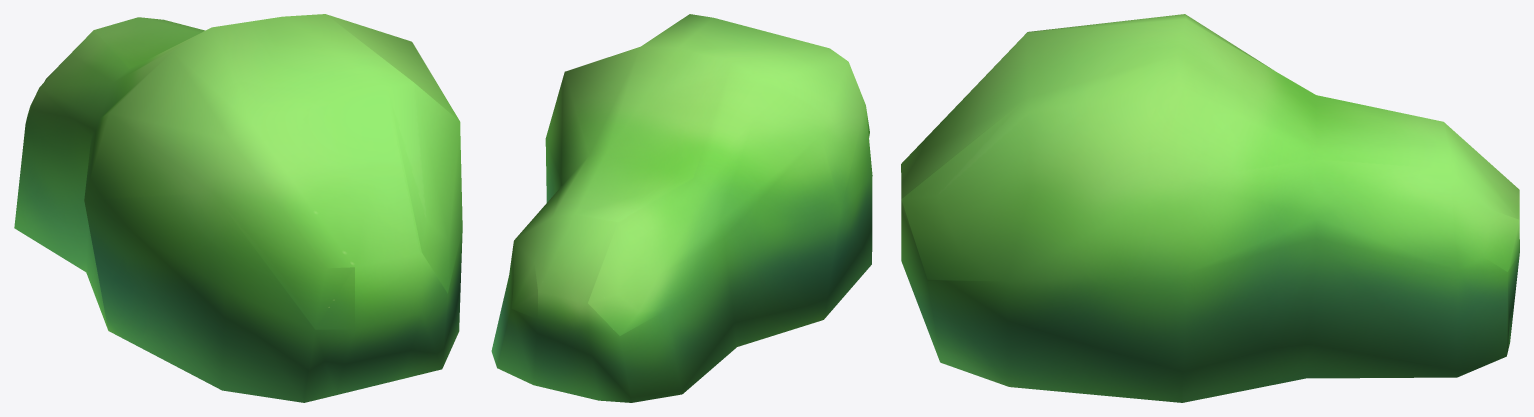
File: BushType2.fbx
3 views of the same model, side by side, from view 1: azimuth 30°, elevation 25°; view 2: azimuth 150°, elevation 25°; view 3: azimuth 270°, elevation 25° (orthographic). The views are drawn at different scales.
Visible parts, largest first — view 1: Cube; view 2: Cube; view 3: Cube.
Part boxes in pixels (bbox=[...]): Cube: bbox=[14, 14, 462, 402]; Cube: bbox=[491, 14, 872, 402]; Cube: bbox=[901, 14, 1519, 402].
Bounding box in the file's own units: 544 × 427 × 825.
